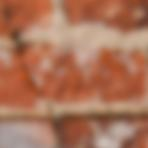brick: (58, 115, 147, 147), (63, 0, 147, 33), (0, 117, 54, 147)
broken_brick: (21, 43, 147, 104), (0, 47, 44, 110), (0, 0, 52, 34), (0, 27, 5, 37)
crack: (0, 2, 60, 145)
